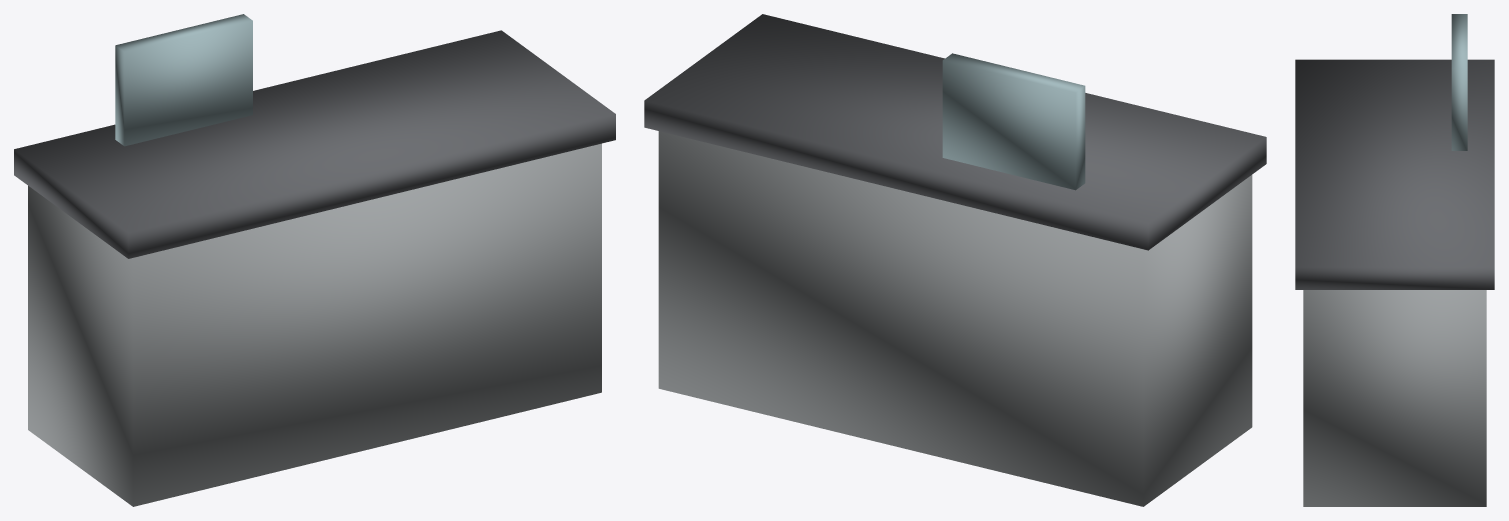
The model's file is police_booking_desk__tall.glb.
The picture shows the model from 3 angles, left to right: view 1: azimuth 30°, elevation 25°; view 2: azimuth 150°, elevation 25°; view 3: azimuth 270°, elevation 25°; orthographic projection. The views are drawn at different scales.
Parts seen in each view (by area): view 1: world; view 2: world; view 3: world.
Part boxes in pixels (box(x1,y1,x2,y2)): world: box(14, 14, 615, 506); world: box(644, 14, 1266, 506); world: box(1295, 14, 1494, 506).
Size of the model in its own units: 1.82 by 1.33 by 0.74.
